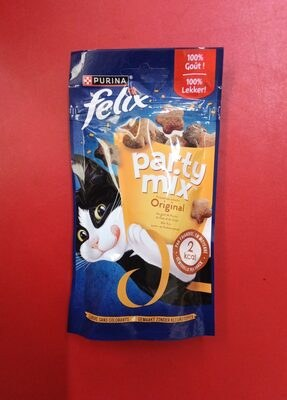Party Mix: (14, 20, 273, 380)
